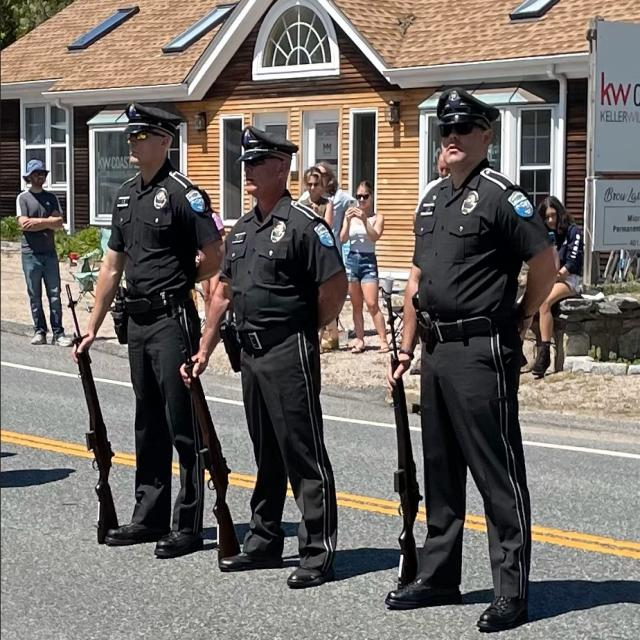police: (372, 79, 560, 631), (179, 110, 351, 604), (65, 90, 218, 544)
